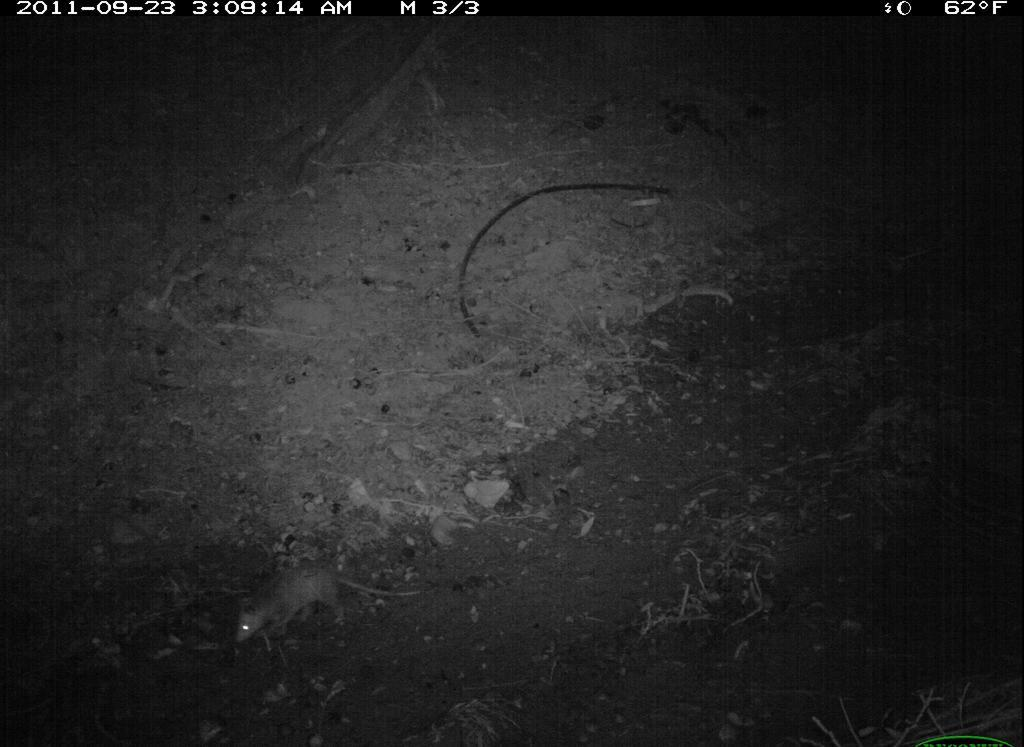opossum: (231, 557, 441, 658)
